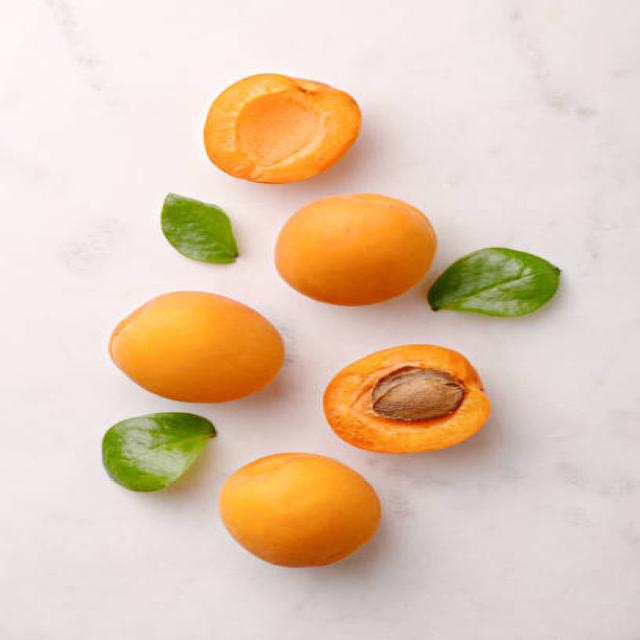cekirdek: (379, 369, 458, 418)
kayisi: (220, 66, 359, 190), (115, 305, 291, 392), (343, 348, 483, 454), (289, 217, 431, 304), (256, 469, 388, 562)
yaprak: (457, 243, 557, 324), (95, 429, 205, 486), (164, 207, 248, 274)
